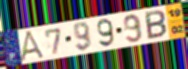7: (43, 26, 63, 56)
9: (122, 13, 144, 44), (72, 21, 93, 53), (96, 18, 116, 48)
A: (19, 29, 48, 62)
B: (144, 9, 168, 41)
